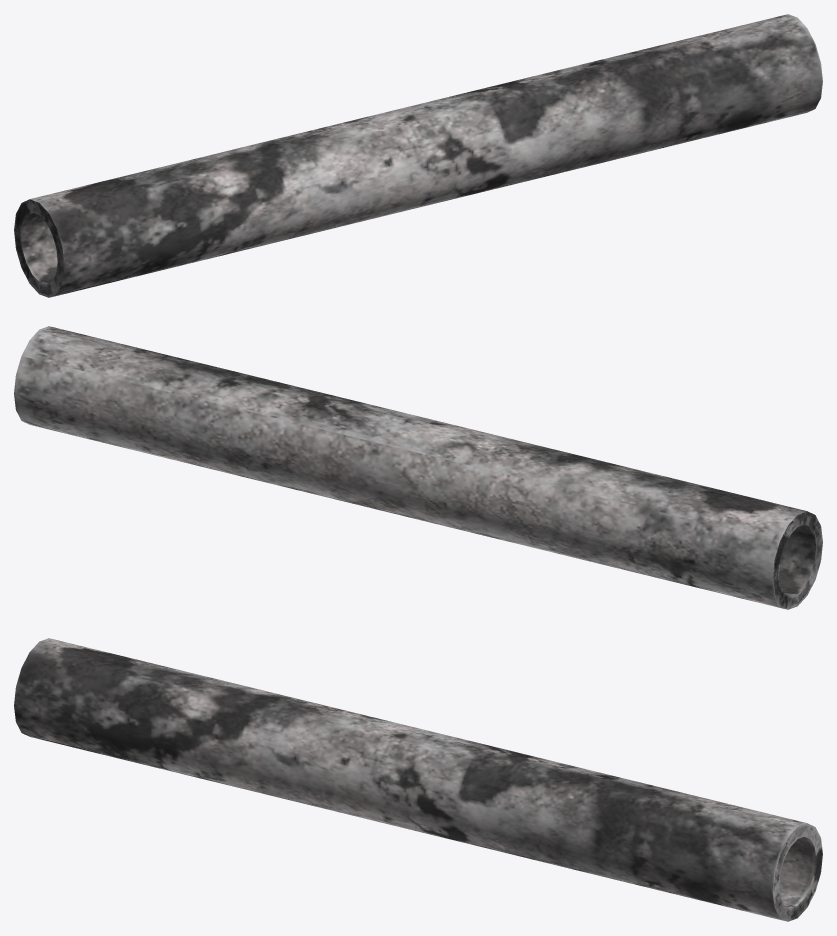
File: Pipe Rubble.fbx
3 views of the same model, one above another, from view 1: azimuth 30°, elevation 25°; view 2: azimuth 150°, elevation 25°; view 3: azimuth 330°, elevation 25° (orthographic).
Visible parts, largest first — view 1: Cylinder; view 2: Cylinder; view 3: Cylinder.
Part boxes in pixels (box(x1,y1,x2,y2)): Cylinder: box(14, 14, 822, 297); Cylinder: box(14, 326, 822, 609); Cylinder: box(14, 638, 822, 921).
Size of the model in its own units: 154 by 17.79 by 17.79.
